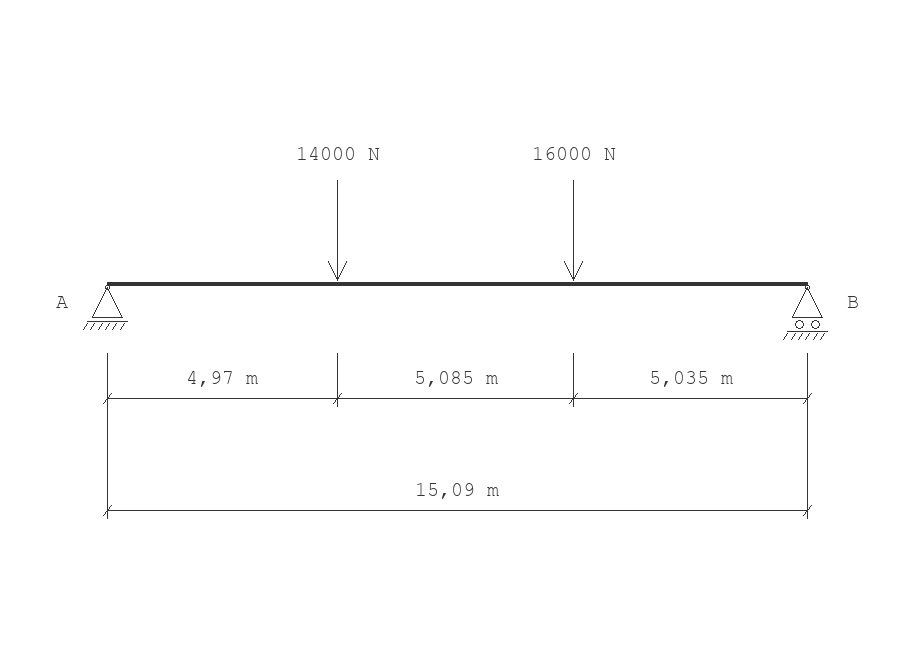pin_support: (83, 285, 128, 330)
point_load: (328, 180, 347, 281), (564, 180, 583, 281)
roller_support: (783, 285, 828, 340)
